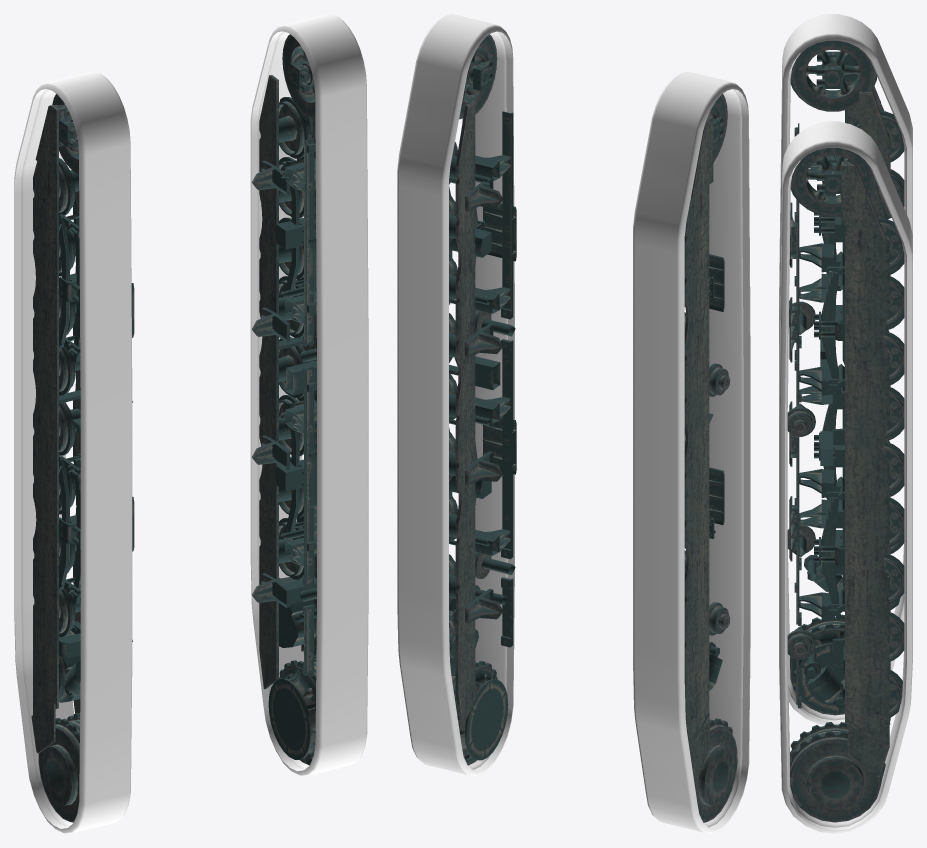
File: Chassis.glb
The picture shows the model from 3 angles, left to right: view 1: azimuth 30°, elevation 25°; view 2: azimuth 150°, elevation 25°; view 3: azimuth 270°, elevation 25°; orthographic projection. The views are drawn at different scales.
Visible parts, largest first — view 1: set_1_group_0, set_0_group_0, set_3_group_0, set_2_group_0; view 2: set_1_group_0, set_0_group_0, set_3_group_0, set_2_group_0; view 3: set_3_group_0, set_2_group_0, set_0_group_0, set_1_group_0.
Part boxes in pixels (x1,y1,x2,y2): set_1_group_0: (14, 71, 132, 833); set_0_group_0: (250, 14, 368, 776); set_3_group_0: (252, 34, 316, 765); set_2_group_0: (31, 94, 134, 822); set_1_group_0: (633, 71, 750, 833); set_0_group_0: (397, 14, 514, 776); set_3_group_0: (449, 34, 516, 765); set_2_group_0: (684, 94, 737, 822); set_3_group_0: (787, 148, 904, 822); set_2_group_0: (787, 40, 904, 715); set_0_group_0: (779, 121, 912, 833); set_1_group_0: (779, 14, 912, 725).
Bounding box in the file's own units: 2.06 × 5.08 × 0.8902.
Materials: 4 (2 with a texture image).
